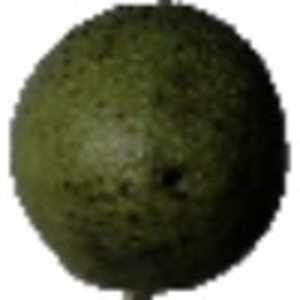abacate: (7, 1, 289, 289)
